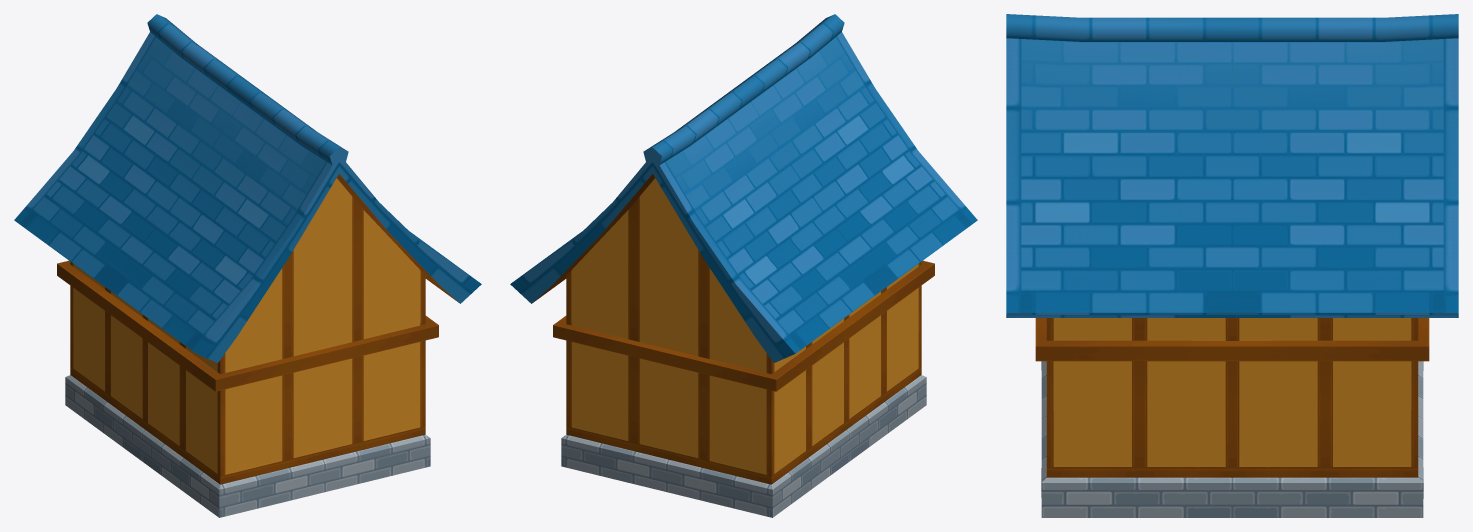
Rendered from HOS0210001.FBX.
The picture shows the model from 3 angles, left to right: view 1: azimuth 30°, elevation 25°; view 2: azimuth 150°, elevation 25°; view 3: azimuth 270°, elevation 25°; orthographic projection. The views are drawn at different scales.
Visible parts, largest first — view 1: smHOS0210001; view 2: smHOS0210001; view 3: smHOS0210001.
Part boxes in pixels (x1,y1,x2,y2): smHOS0210001: (14,14,481,517); smHOS0210001: (510,14,977,517); smHOS0210001: (1006,14,1458,517).
Size of the model in its own units: 503 by 598 by 557.
Materials: 1 (1 with a texture image).
